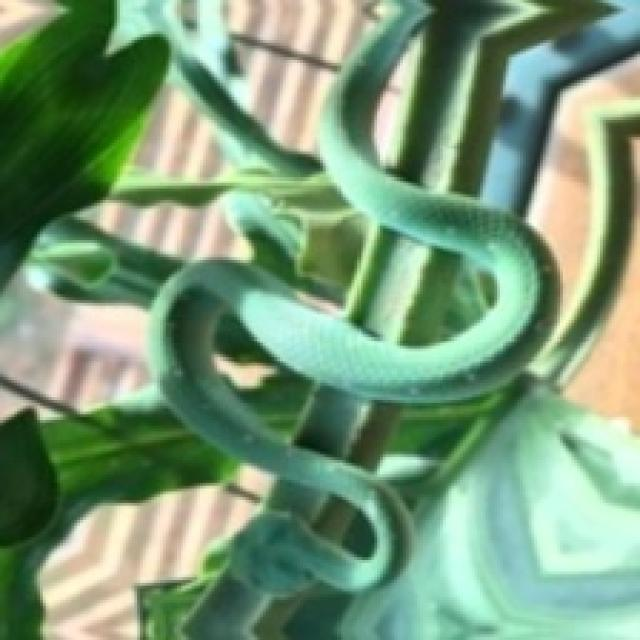north ph temple pitviper: (0, 0, 637, 637), (143, 0, 637, 637), (126, 69, 231, 180), (77, 197, 251, 260)
